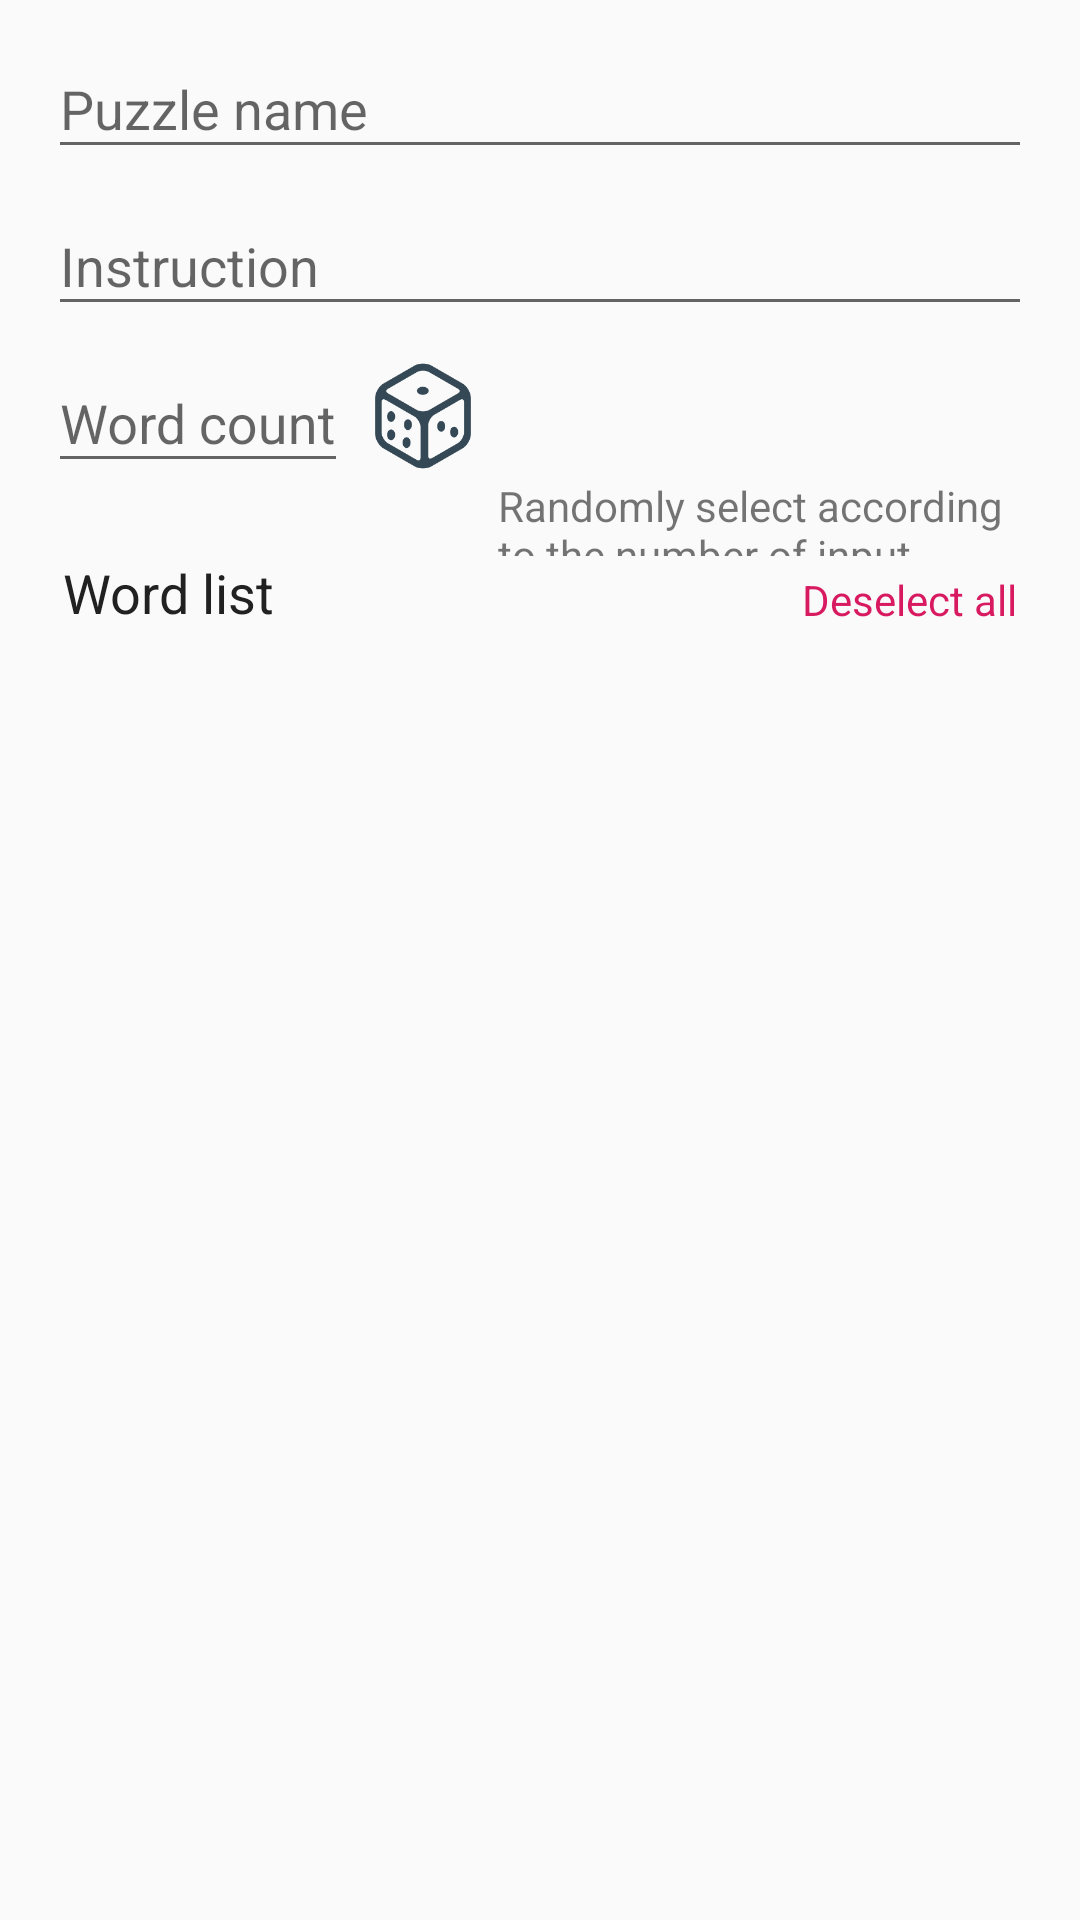

Where to tap for icons on this 1080w x 1920h app screen, as [x,y]:
touzitrue: [423,416]
